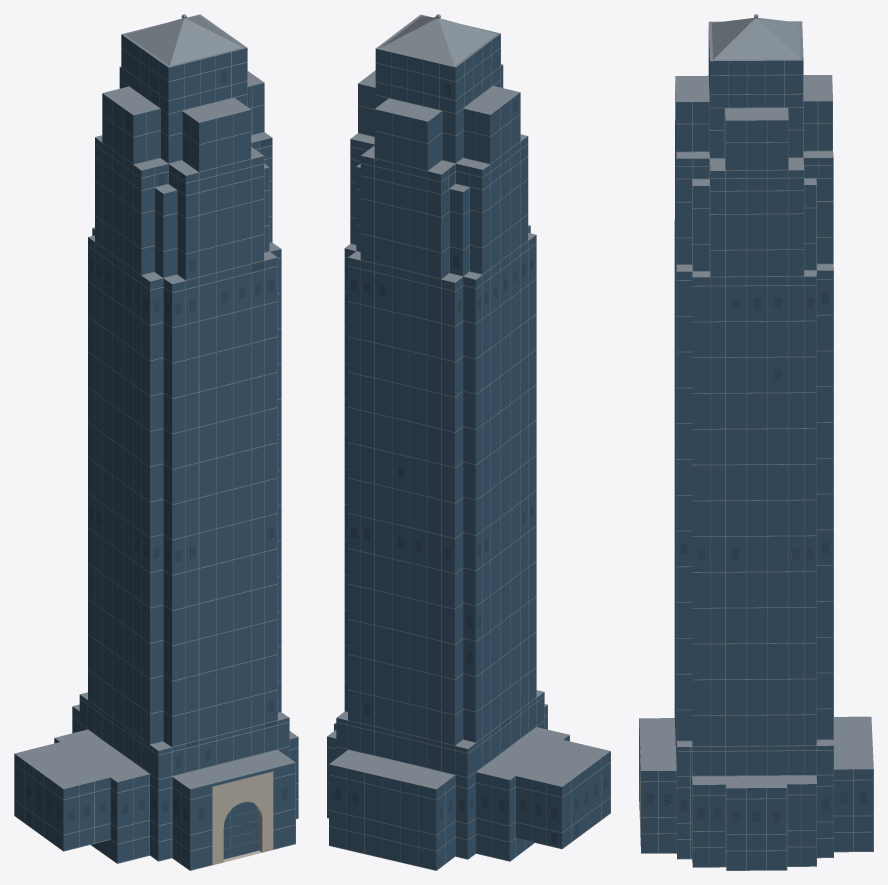
Rendered from williams-tower-far.glb.
The picture shows the model from 3 angles, left to right: view 1: azimuth 30°, elevation 25°; view 2: azimuth 150°, elevation 25°; view 3: azimuth 270°, elevation 25°; orthographic projection.
Visible parts, largest first — view 1: williams-tower-0-glass, williams-tower-0-mullion, williams-tower-0-roof, williams-tower-0-glow, williams-tower-0-stone; view 2: williams-tower-0-glass, williams-tower-0-mullion, williams-tower-0-roof, williams-tower-0-glow; view 3: williams-tower-0-glass, williams-tower-0-mullion, williams-tower-0-roof, williams-tower-0-glow.
Boxes of the visible parts, x1=… form: williams-tower-0-glass: x1=14, y1=34, x2=298, y2=869; williams-tower-0-mullion: x1=14, y1=48, x2=298, y2=870; williams-tower-0-roof: x1=14, y1=14, x2=298, y2=789; williams-tower-0-glow: x1=27, y1=71, x2=287, y2=840; williams-tower-0-stone: x1=212, y1=772, x2=273, y2=864; williams-tower-0-glass: x1=327, y1=34, x2=610, y2=869; williams-tower-0-mullion: x1=327, y1=33, x2=610, y2=870; williams-tower-0-roof: x1=327, y1=14, x2=610, y2=789; williams-tower-0-glow: x1=334, y1=83, x2=607, y2=845; williams-tower-0-glass: x1=639, y1=30, x2=873, y2=870; williams-tower-0-mullion: x1=639, y1=44, x2=873, y2=870; williams-tower-0-roof: x1=639, y1=15, x2=873, y2=788; williams-tower-0-glow: x1=640, y1=67, x2=867, y2=822.
Bounding box in the file's own units: 85.04 × 275 × 72.04.
